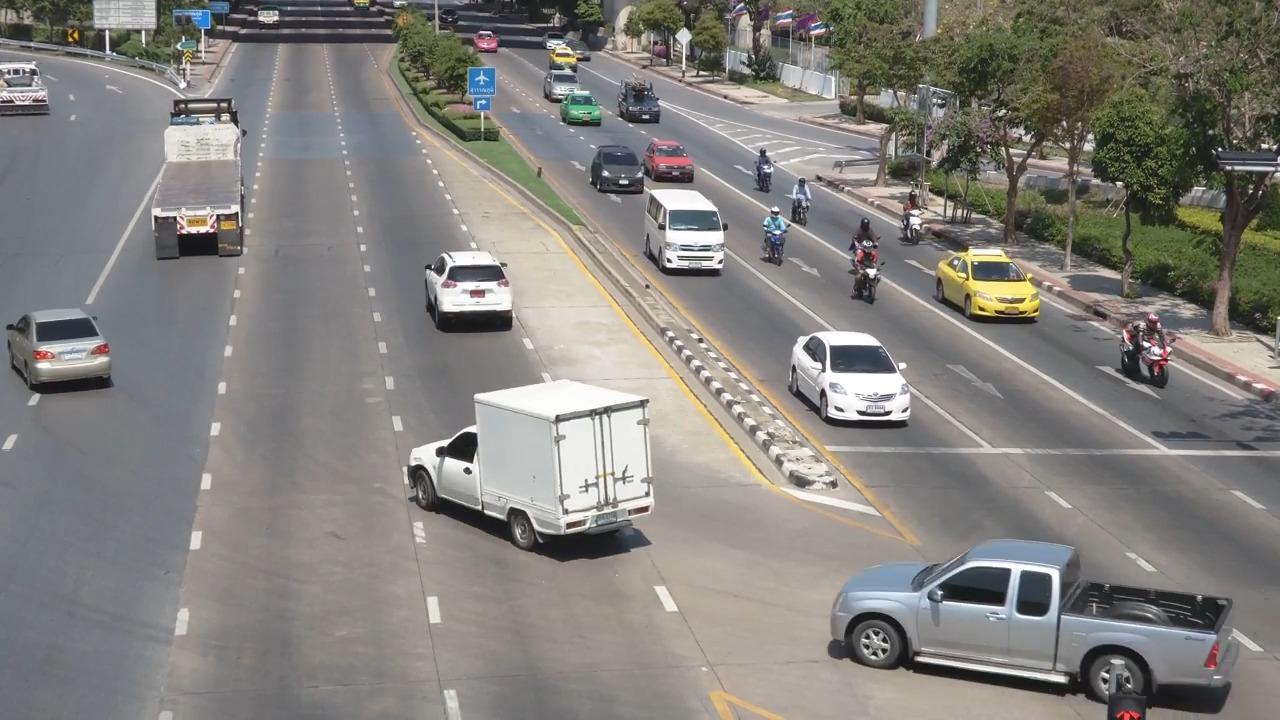CAR: (802, 497, 1245, 719), (380, 359, 690, 569), (787, 312, 915, 429), (3, 304, 128, 404), (938, 243, 1055, 334), (418, 247, 521, 343), (639, 177, 730, 271), (0, 48, 56, 129), (585, 136, 650, 202), (641, 135, 707, 185), (609, 75, 666, 127), (557, 90, 608, 133), (535, 35, 585, 68)
HGV_BUS: (136, 91, 272, 271)
MOTOR: (1123, 309, 1188, 392), (839, 231, 901, 308), (784, 176, 825, 233), (759, 204, 797, 265), (745, 142, 780, 200), (898, 196, 933, 246)
